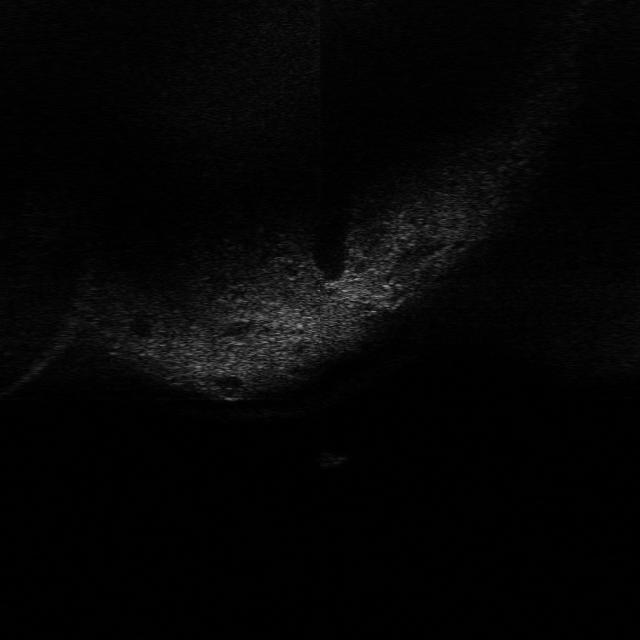cube: (306, 449, 352, 471)
